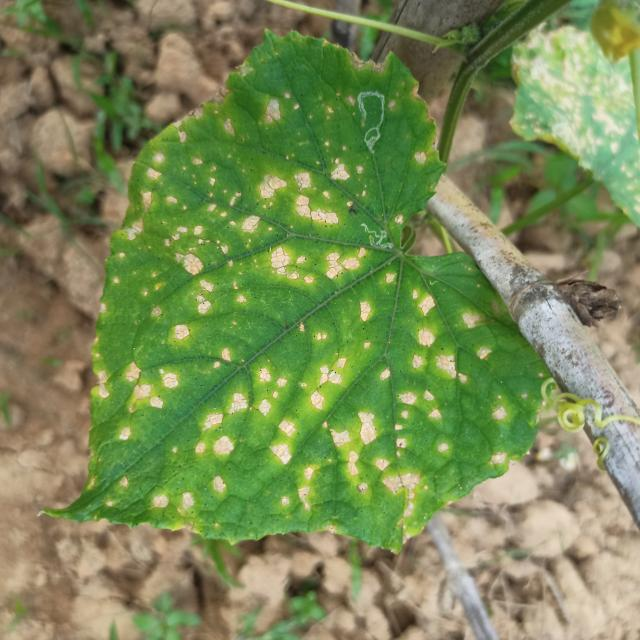disease_cucumber: (103, 67, 500, 548)
